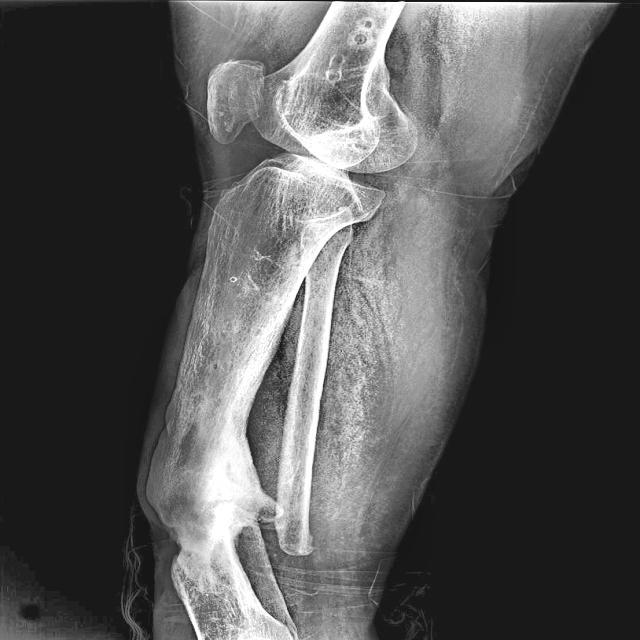fracture: (139, 482, 324, 592)
